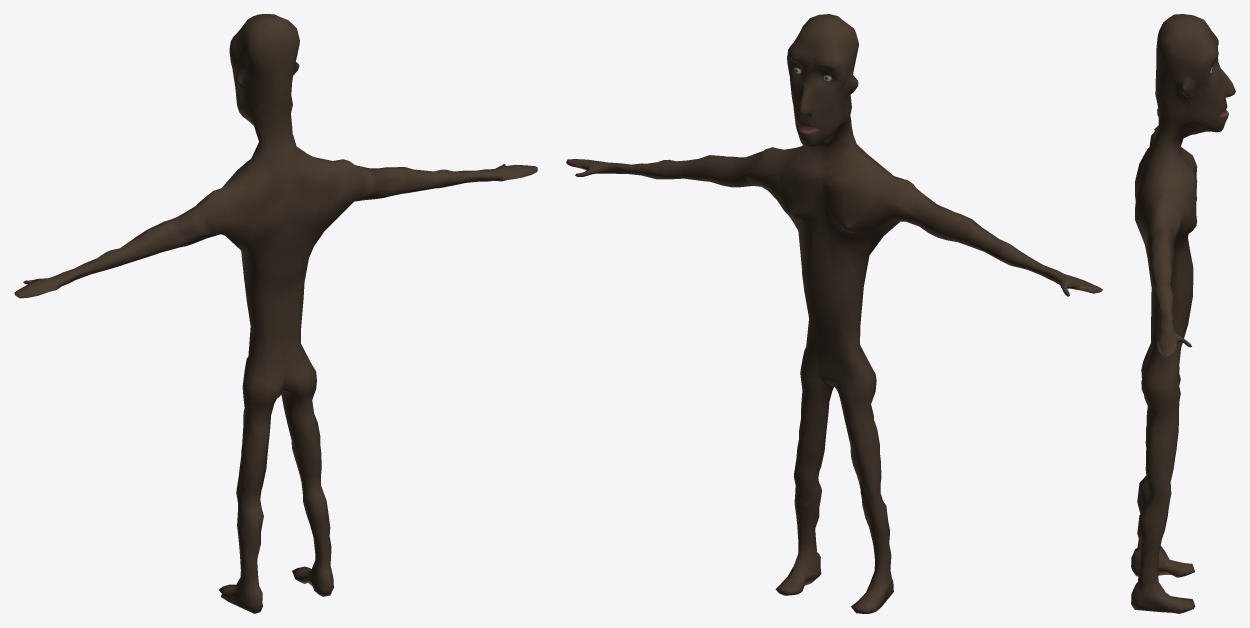
File: black_king.glb
3 renders of one model, left to right at view 1: azimuth 30°, elevation 25°; view 2: azimuth 150°, elevation 25°; view 3: azimuth 270°, elevation 25°, orthographic. The views are drawn at different scales.
Visible parts, largest first — view 1: Cube; view 2: Cube; view 3: Cube.
Part boxes in pixels (left/top/right/bottom): Cube: left=14, top=14, right=537, bottom=613; Cube: left=566, top=14, right=1102, bottom=613; Cube: left=1131, top=14, right=1235, bottom=613.
Size of the model in its own units: 1.91 by 2 by 0.3298.
1 material, 1 textured.
